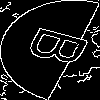B: (24, 25, 100, 72)
